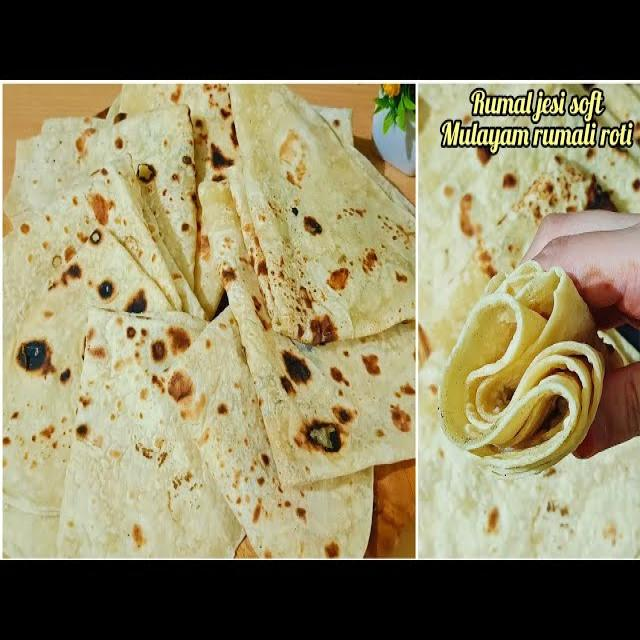ROTI: (0, 79, 416, 551)
